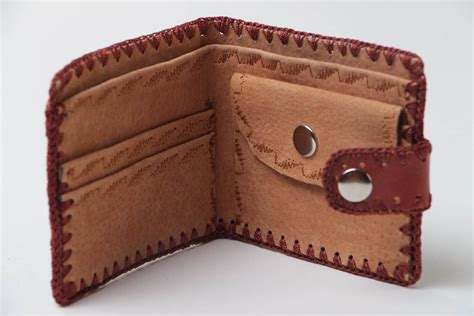cuero: (43, 15, 432, 307)
